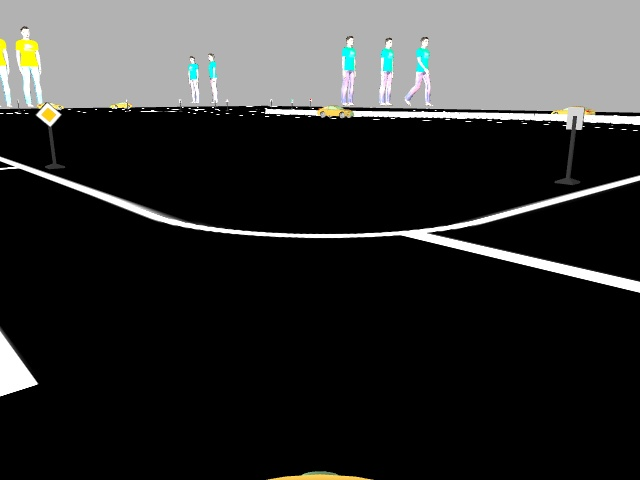Priority: (34, 102, 63, 126)
